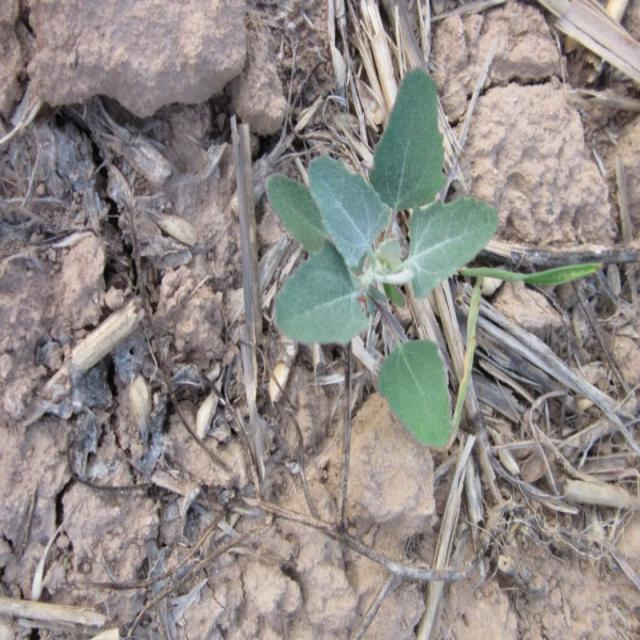ca: (267, 75, 491, 451)
